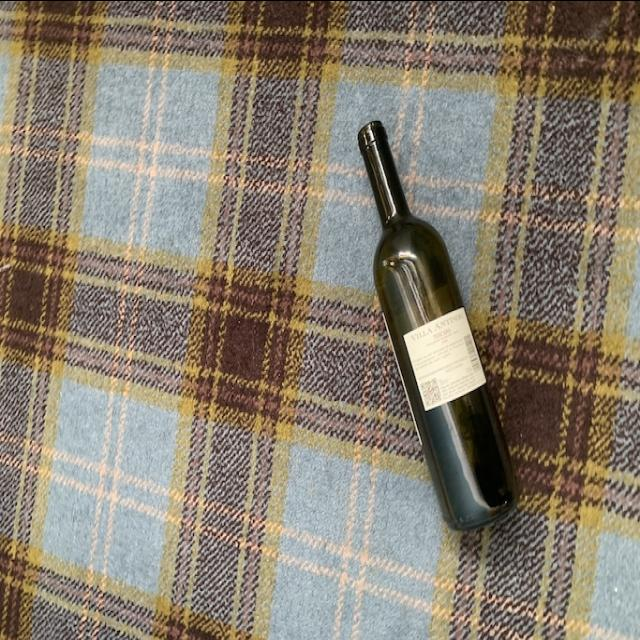litter: (357, 112, 522, 532)
